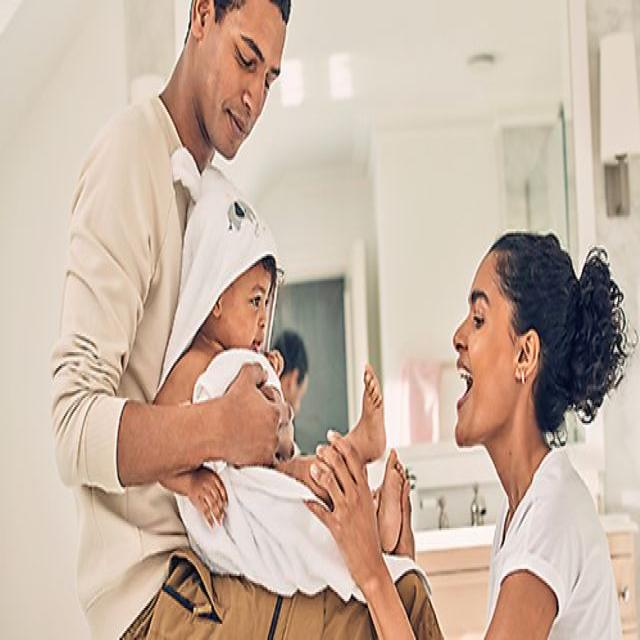adult: (51, 0, 446, 640), (307, 228, 626, 640)
child: (154, 171, 403, 553)
